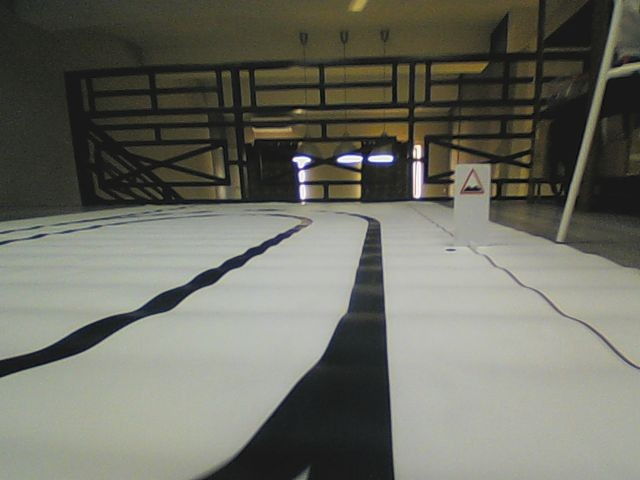Nerov: (458, 166, 485, 196)
